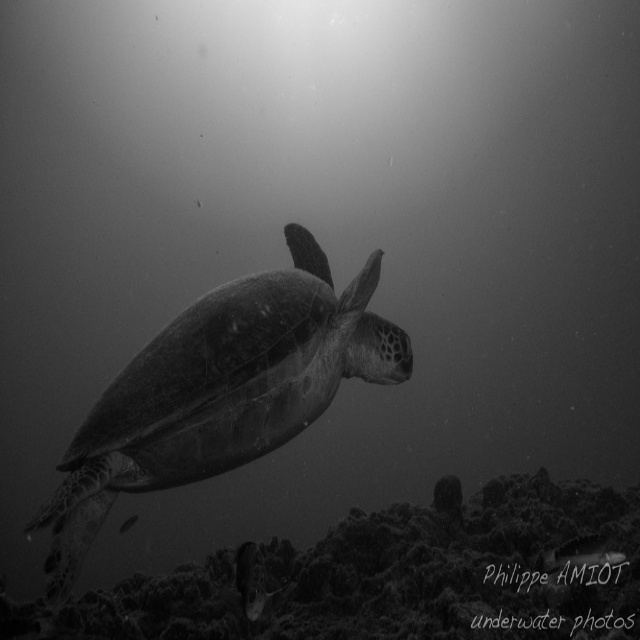Sea turtle: (19, 221, 416, 621)
